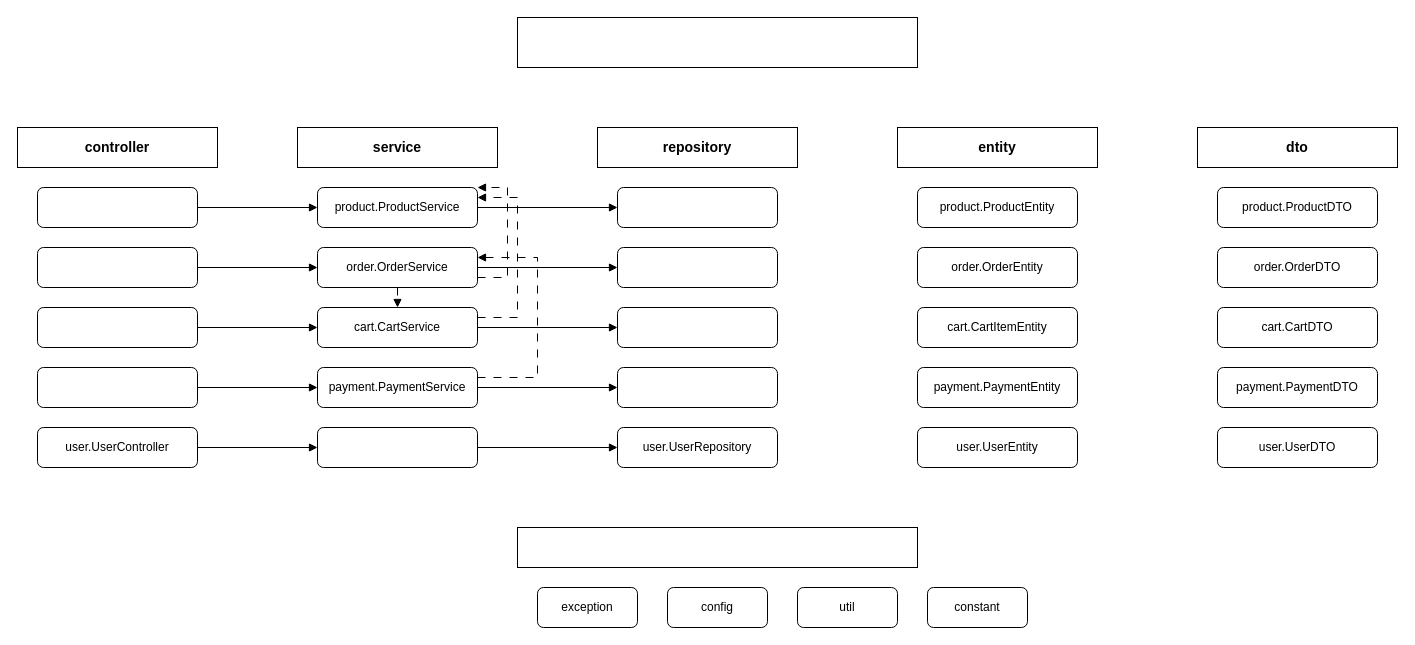
Image size: 1415x645. Some labels were removed from this diagram. Here are the shapes that lost their labels. From the top down, the centre of each, then its label:
the point at 717,42: com.company.ecommerce
the point at 117,207: product.ProductController
the point at 697,207: product.ProductRepository
the point at 117,267: order.OrderController
the point at 697,267: order.OrderRepository
the point at 117,327: cart.CartController
the point at 697,327: cart.CartRepository
the point at 117,387: payment.PaymentController
the point at 697,387: payment.PaymentRepository
the point at 397,447: user.UserService
the point at 717,547: common
